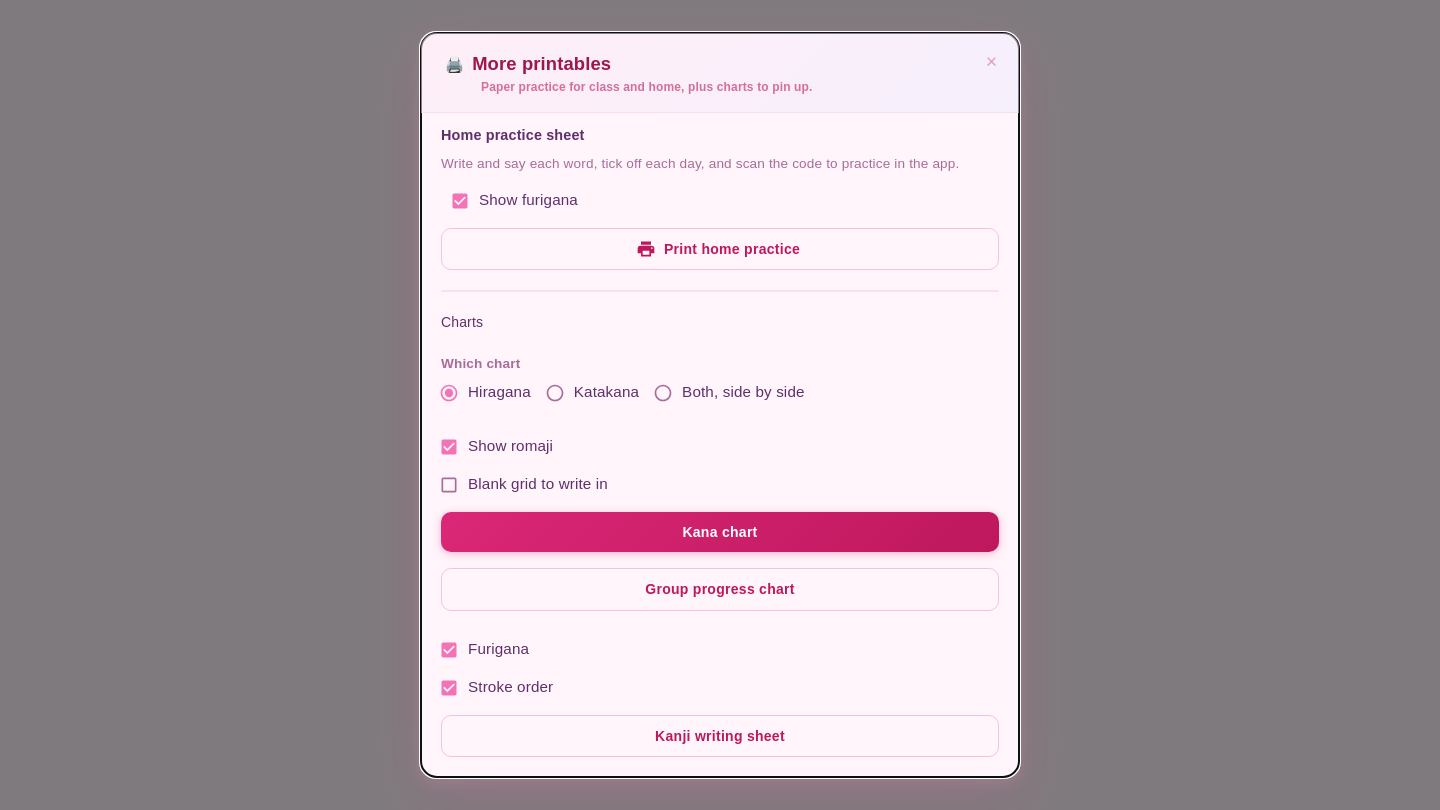
ReferenceSheetsDialog › warns when the browser blocks the print tab outright
The image size is (1440, 810).
(page scrolled)
Click the button "Kana chart": [720, 532] box [441, 512, 999, 552]
(page scrolled)
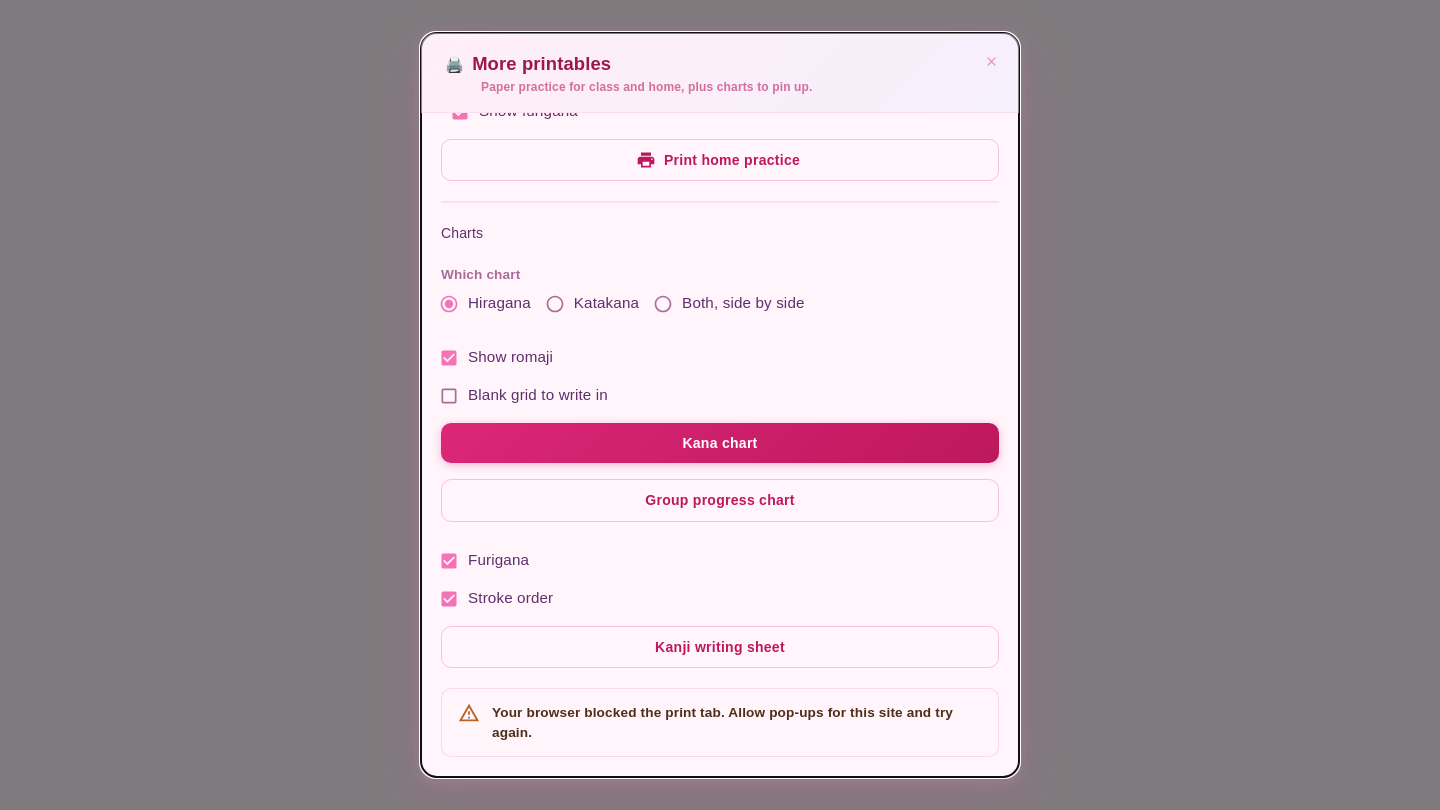
expect the text "blocked the print tab" is shown: met, box [492, 705, 953, 740]
